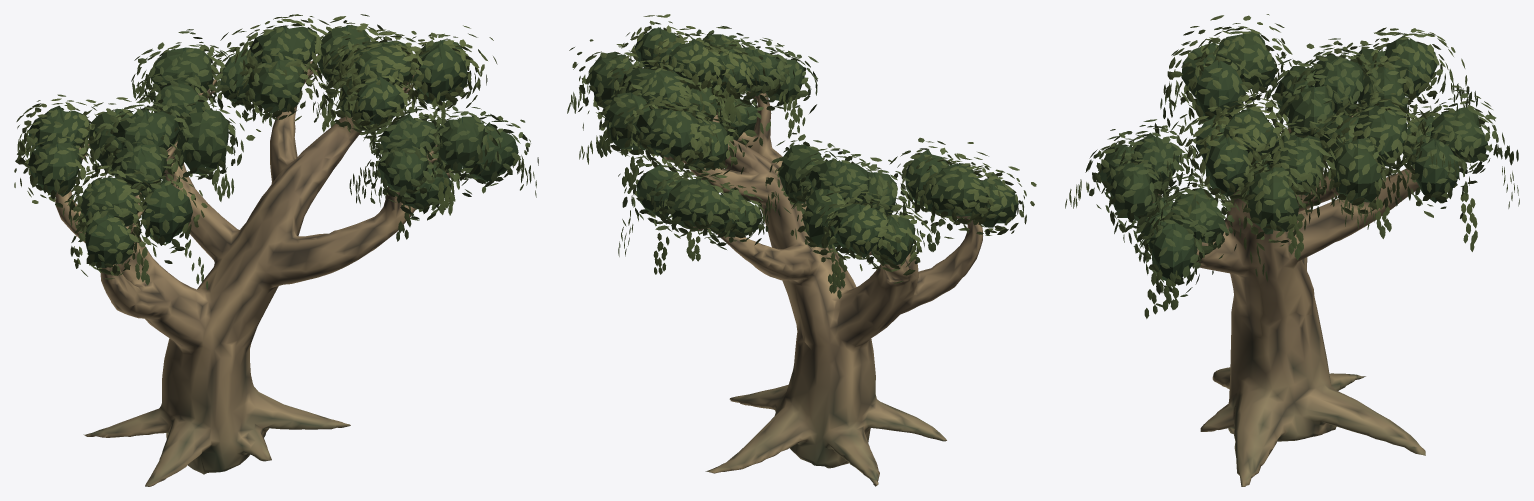
Rendered from riverside-study.glb.
3 views of the same model, side by side, from view 1: azimuth 30°, elevation 25°; view 2: azimuth 150°, elevation 25°; view 3: azimuth 270°, elevation 25° (orthographic). The views are drawn at different scales.
Parts seen in each view (by area): view 1: crown-foliage, living-wood; view 2: crown-foliage, living-wood; view 3: crown-foliage, living-wood.
Boxes of the visible parts, x1,y1,x2,y2 form: crown-foliage: [14, 14, 538, 289]; living-wood: [55, 55, 451, 486]; crown-foliage: [567, 14, 1036, 298]; living-wood: [664, 91, 982, 486]; crown-foliage: [1065, 14, 1519, 318]; living-wood: [1152, 109, 1425, 486].
Bounding box in the file's own units: 8.34 × 7 × 6.75.
